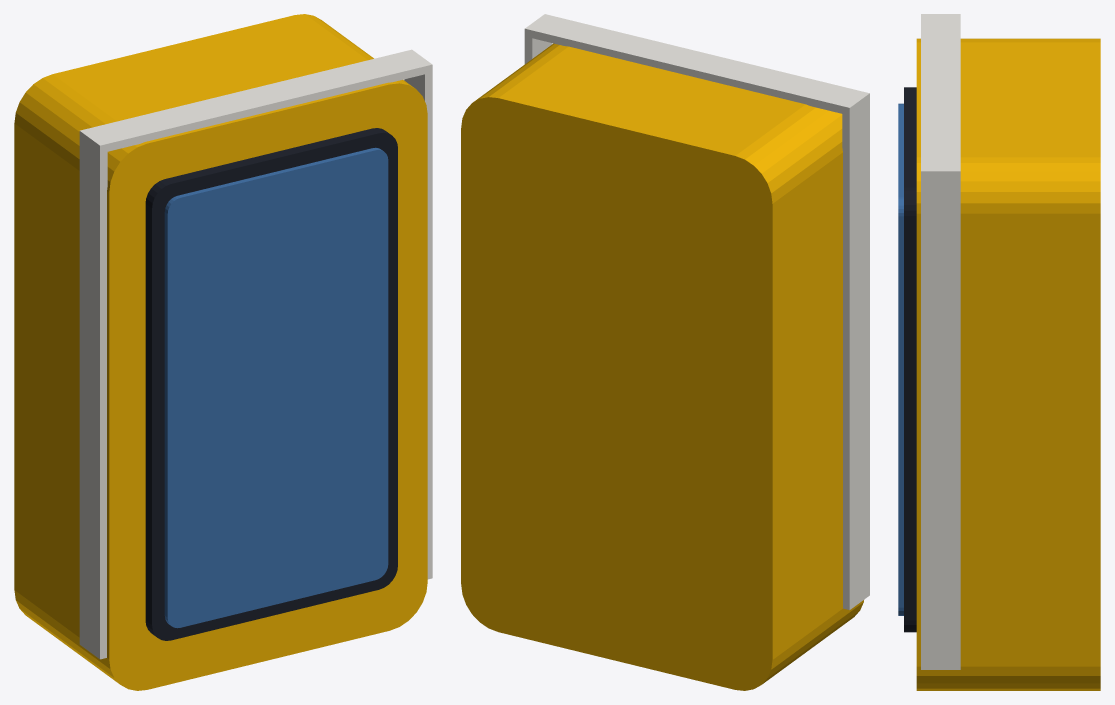
Rendered from device.canary-nightlight.glb.
3 renders of one model, left to right at view 1: azimuth 30°, elevation 25°; view 2: azimuth 150°, elevation 25°; view 3: azimuth 270°, elevation 25°, orthographic. The views are drawn at different scales.
Size of the model in its own units: 0.0262 by 0.0417 by 0.0143.
